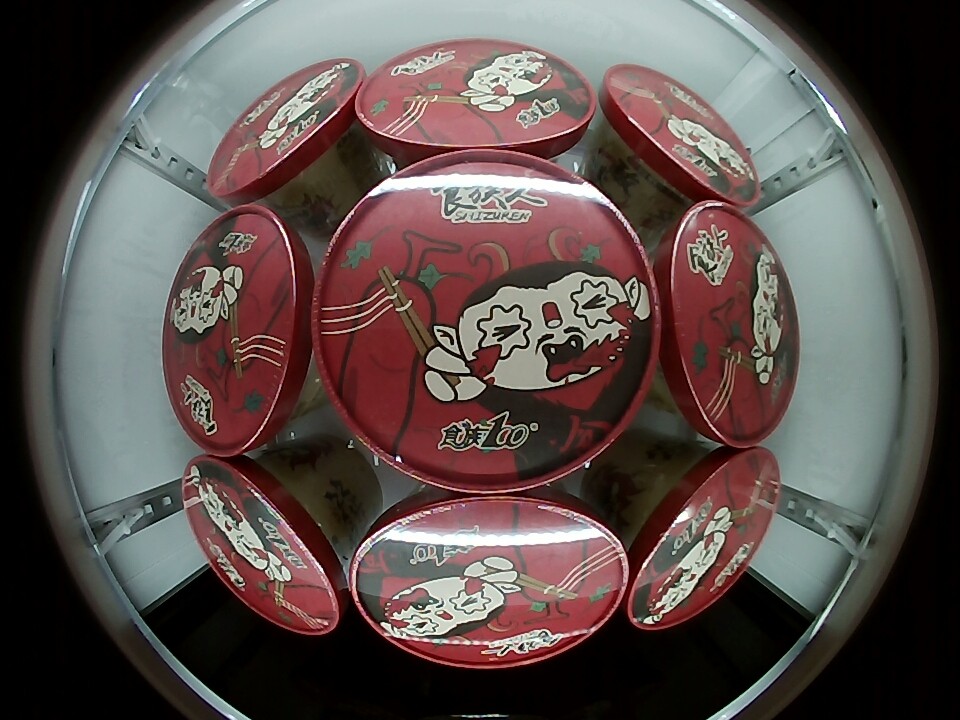suanlafen: (314, 150, 661, 491), (348, 485, 630, 668), (163, 205, 318, 456), (653, 202, 799, 448), (182, 455, 349, 635), (356, 41, 598, 165), (623, 447, 781, 631), (599, 64, 761, 209), (207, 58, 365, 205)
